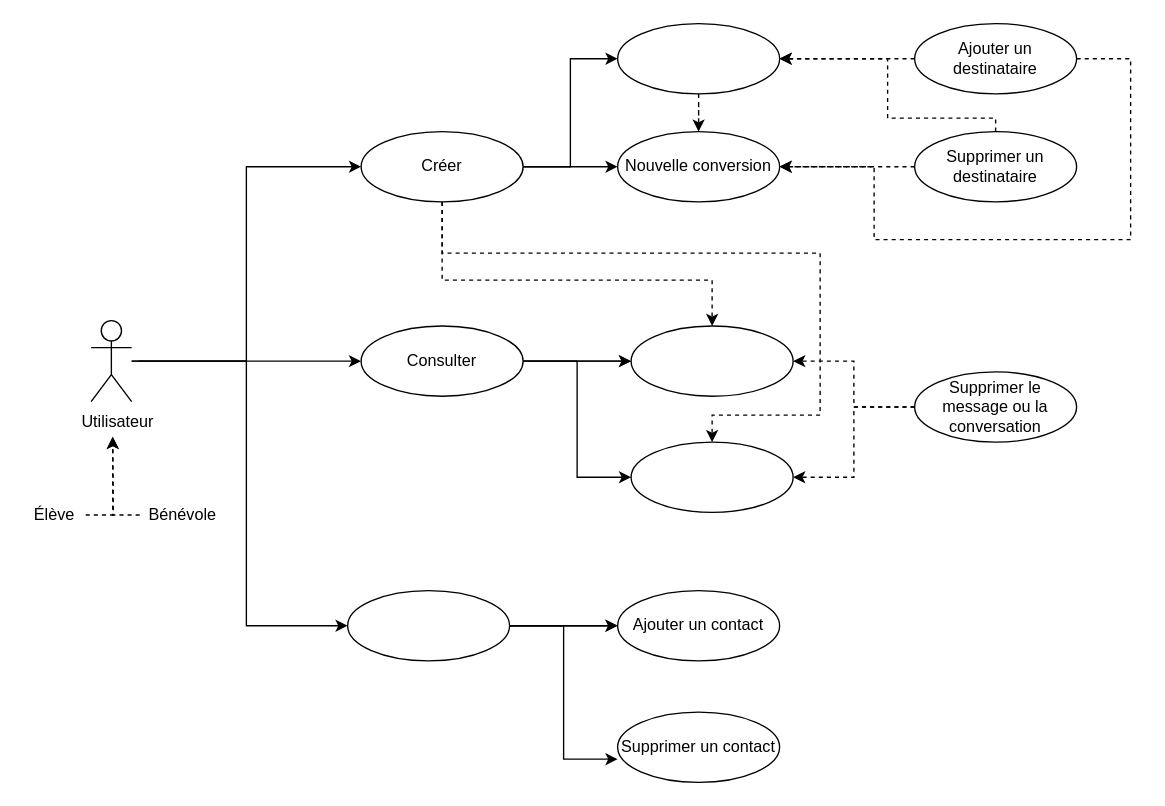
Some shapes in this 1165 by 806 pixel diagram are drawn without their labels. Each missing label, with the box of its shape:
Contact: (346, 589, 510, 661)
Conversion: (630, 441, 793, 512)
Message: (630, 325, 793, 396)
Nouveau message: (616, 22, 780, 94)
